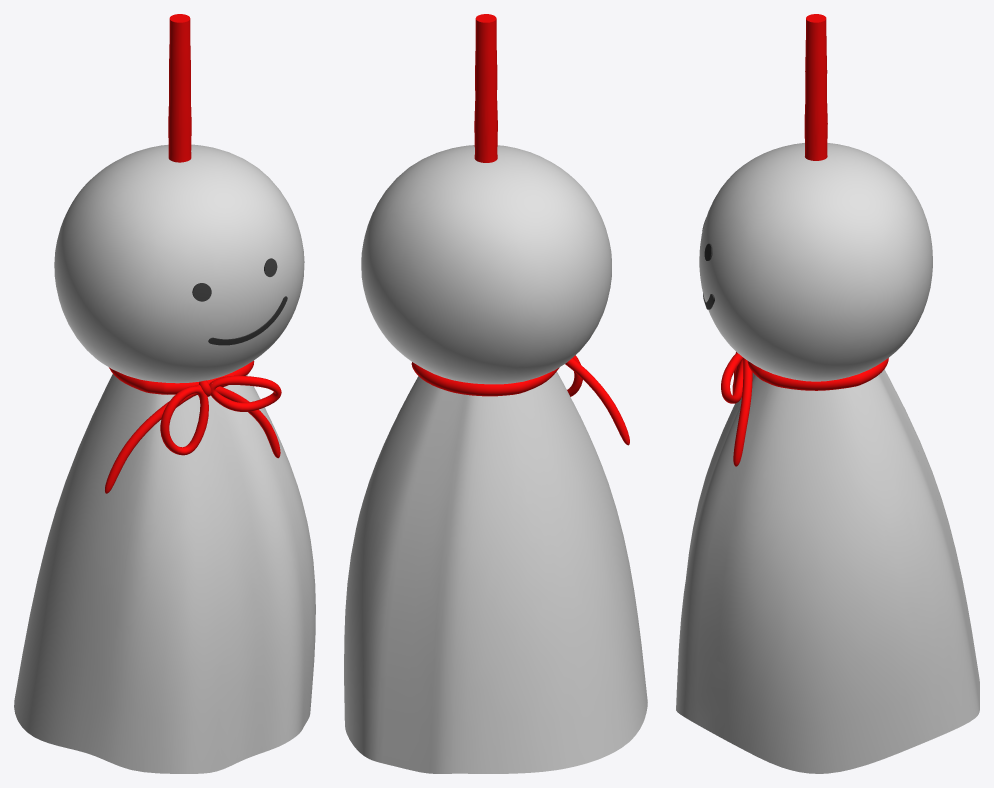
File: teruterubouzu.glb
3 renders of one model, left to right at view 1: azimuth 30°, elevation 25°; view 2: azimuth 150°, elevation 25°; view 3: azimuth 270°, elevation 25°, orthographic.
Parts seen in each view (by area): view 1: 505_teruterubouzu; view 2: 505_teruterubouzu; view 3: 505_teruterubouzu.
Part boxes in pixels (<box>): 505_teruterubouzu: <box>14,14,315,773</box>; 505_teruterubouzu: <box>344,14,647,773</box>; 505_teruterubouzu: <box>676,14,979,773</box>.
Size of the model in its own units: 0.0865 by 0.2218 by 0.0873.
